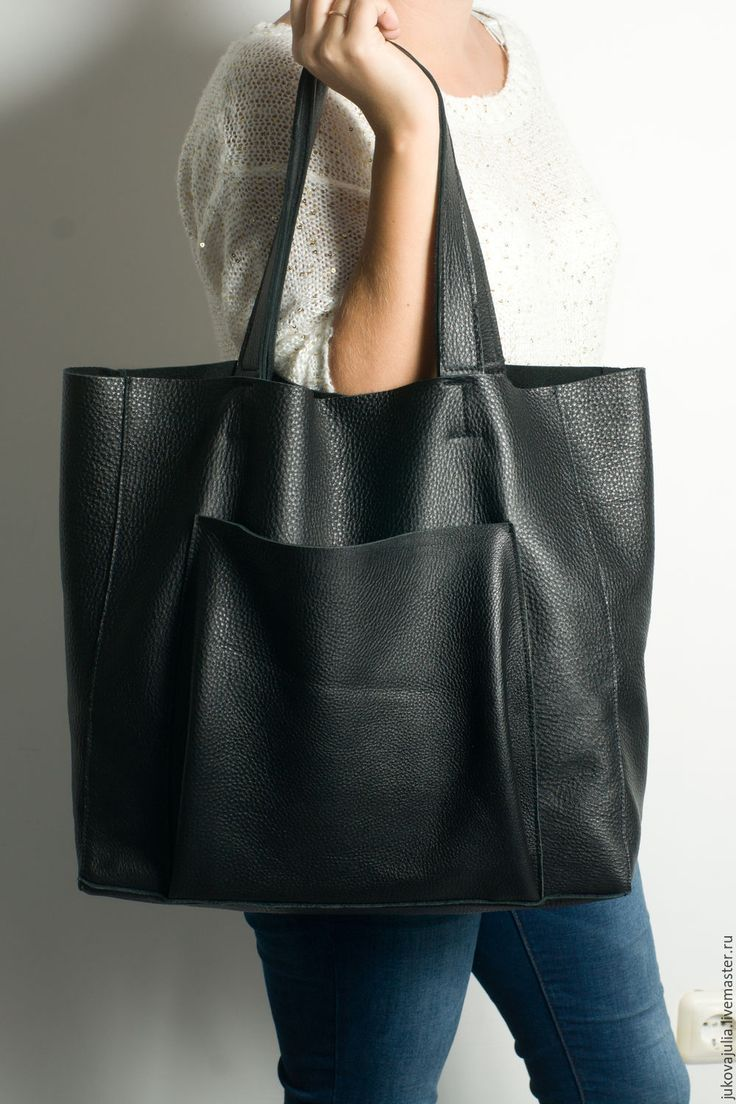cuero: (60, 32, 657, 909)
